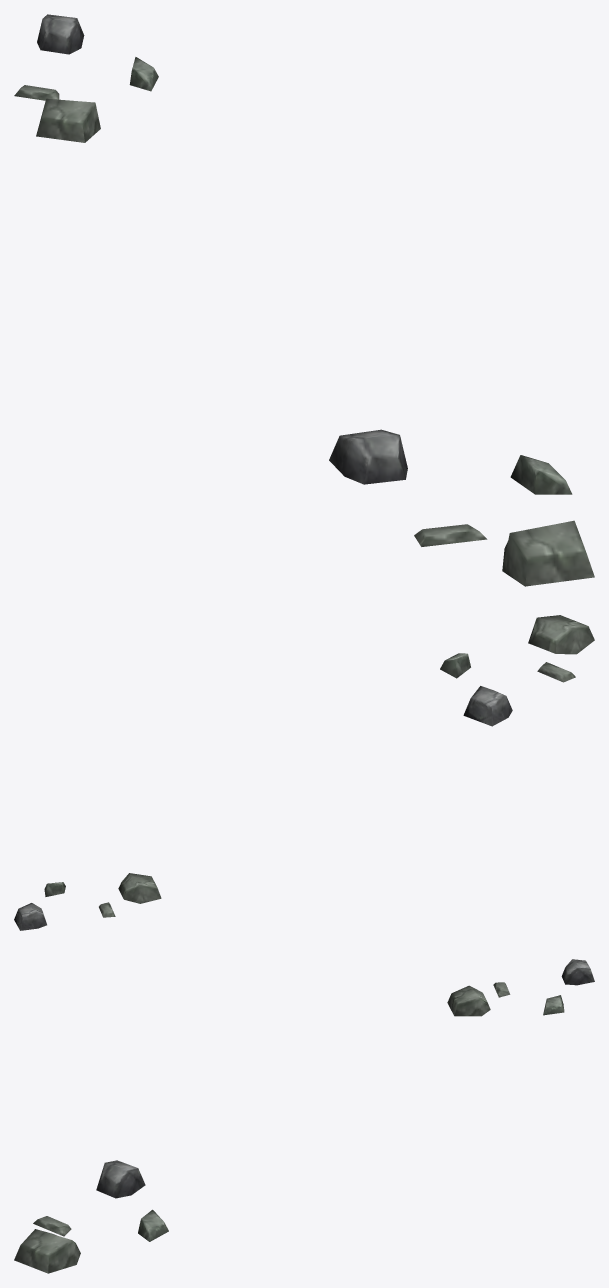
File: Area_07_29.fbx
The picture shows the model from 3 angles, top to bottom: view 1: azimuth 30°, elevation 25°; view 2: azimuth 150°, elevation 25°; view 3: azimuth 330°, elevation 25°; orthographic projection. The views are drawn at different scales.
Visible parts, largest first — view 1: Area_07_29; view 2: Area_07_29; view 3: Area_07_29.
Part boxes in pixels (x1,y1,x2,y2): Area_07_29: (14,14,594,586); Area_07_29: (14,615,594,930); Area_07_29: (14,959,594,1273).
Bounding box in the file's own units: 358 × 44.85 × 1516.
